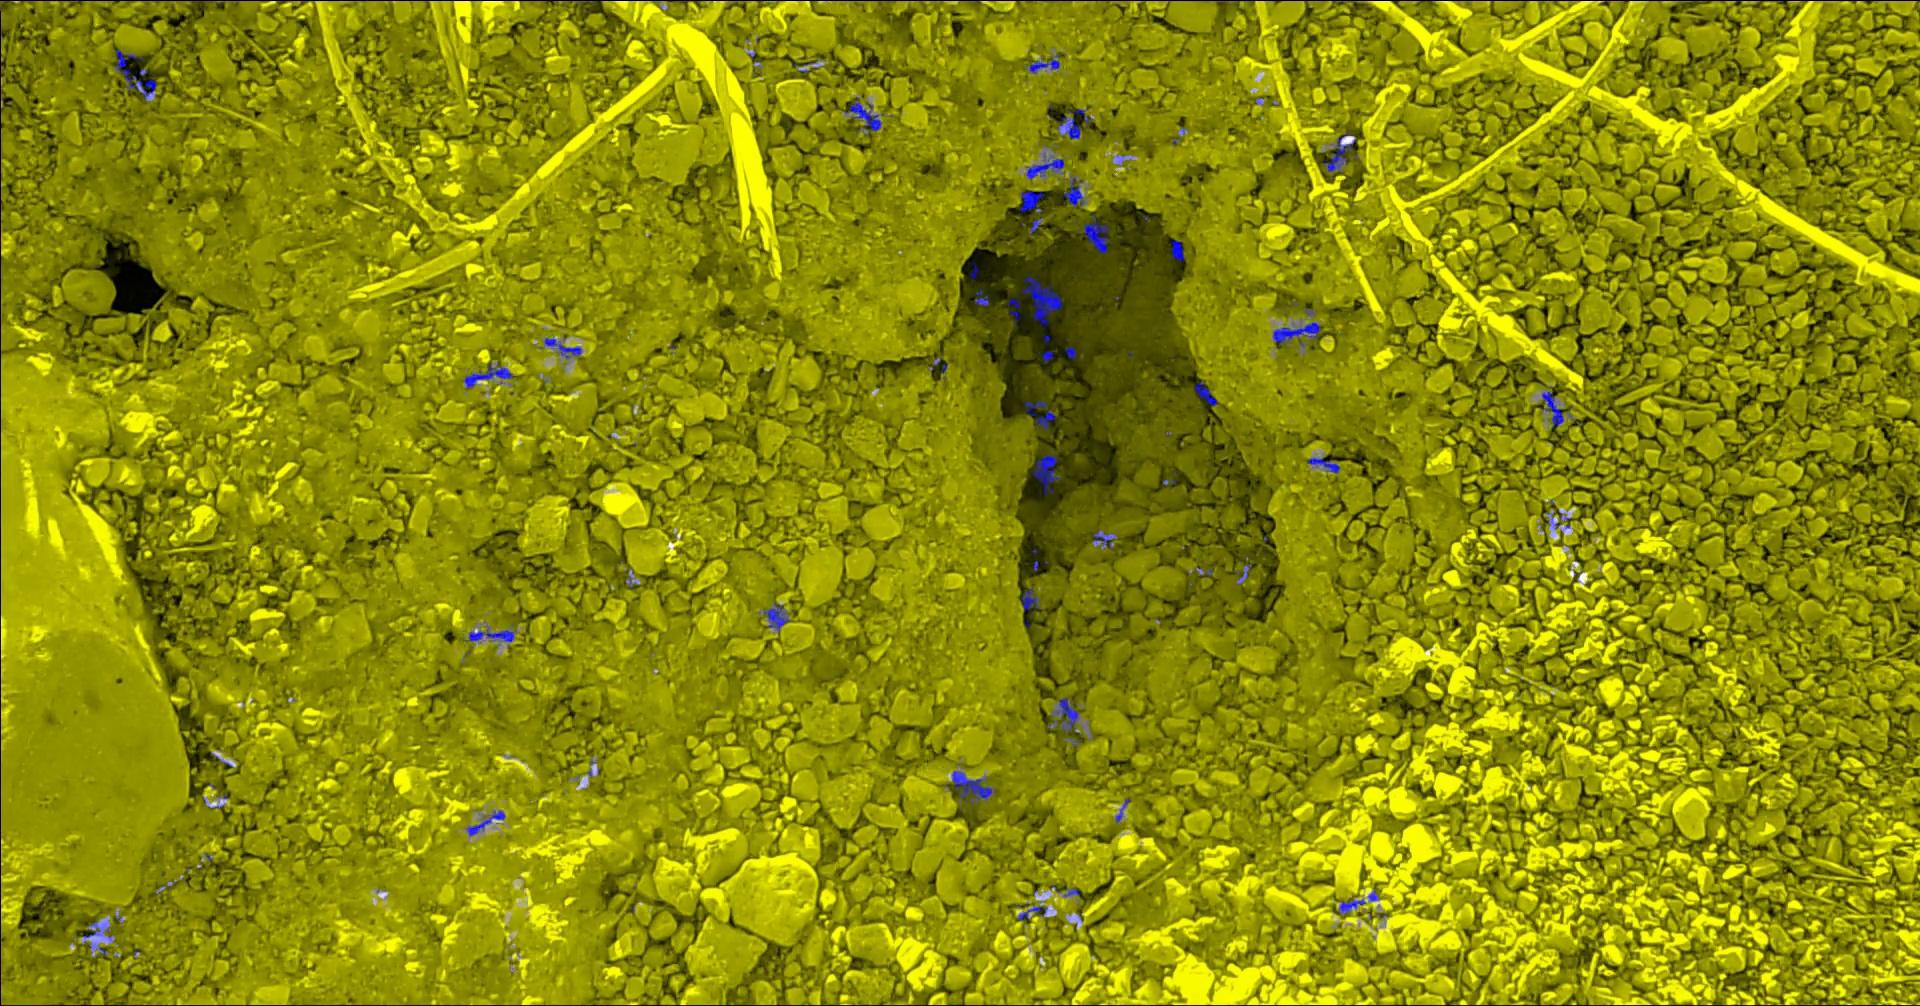ant: (114, 47, 156, 100), (1021, 276, 1063, 326), (951, 770, 994, 804), (844, 97, 881, 135), (1322, 135, 1357, 171), (463, 362, 513, 387), (1272, 321, 1321, 347), (1032, 453, 1060, 495), (1079, 213, 1109, 253), (1057, 107, 1091, 138), (1051, 697, 1083, 730), (1018, 191, 1043, 234), (1026, 154, 1064, 179), (1023, 399, 1055, 429), (466, 810, 504, 835), (543, 337, 582, 359), (762, 602, 789, 631), (1542, 391, 1563, 427), (465, 627, 516, 641), (1063, 175, 1084, 207), (81, 920, 110, 942), (1027, 53, 1059, 72), (1194, 380, 1217, 405), (1307, 457, 1338, 473), (1020, 586, 1039, 611), (1017, 904, 1046, 920), (1338, 898, 1365, 913), (1007, 297, 1020, 325), (1092, 531, 1112, 547), (1236, 563, 1251, 584), (1170, 238, 1183, 260), (973, 290, 989, 306), (1063, 345, 1076, 359), (1037, 351, 1054, 361)
